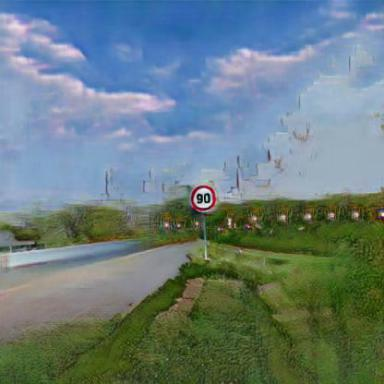Speed_limit_90: (191, 184, 216, 212)
